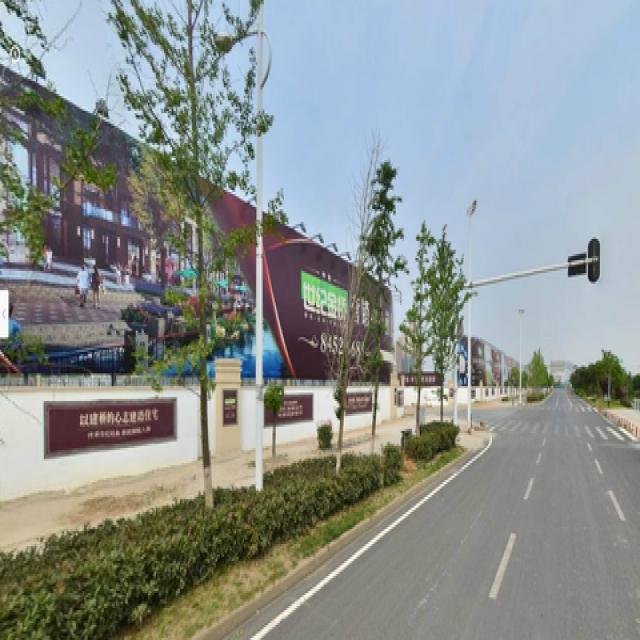gink: (149, 11, 256, 499), (364, 166, 397, 438), (408, 237, 431, 433)
